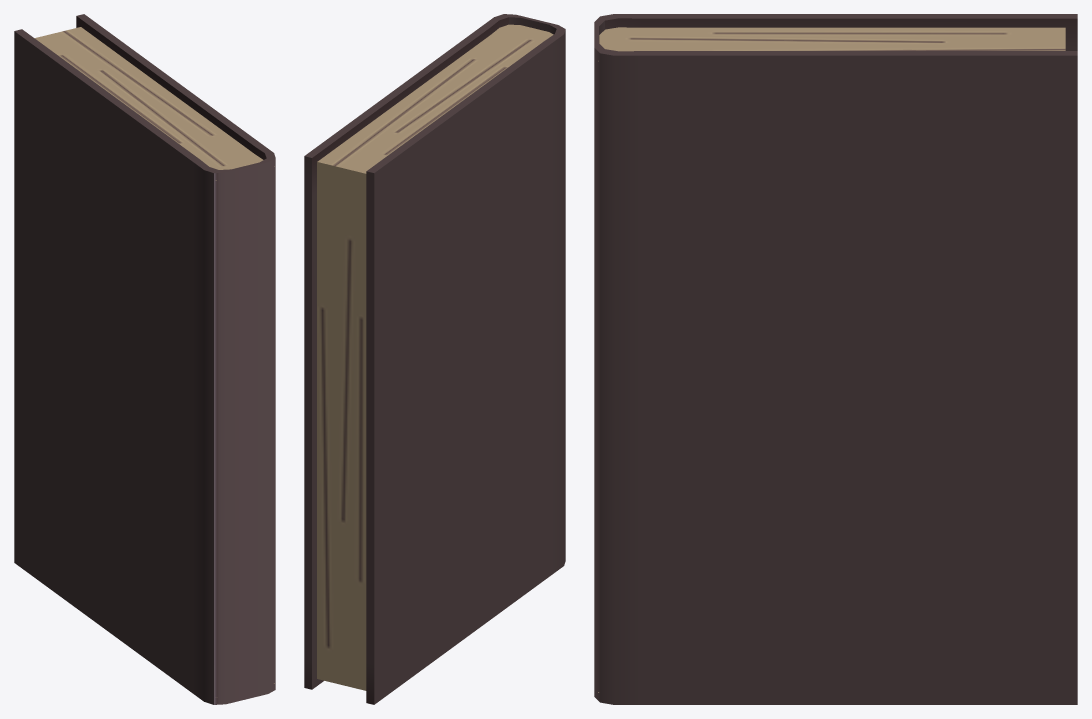
Rendered from Mesh_Room_Book_02_SM.fbx.
The picture shows the model from 3 angles, left to right: view 1: azimuth 30°, elevation 25°; view 2: azimuth 150°, elevation 25°; view 3: azimuth 270°, elevation 25°; orthographic projection. The views are drawn at different scales.
Visible parts, largest first — view 1: Mesh_Room_Book_02; view 2: Mesh_Room_Book_02; view 3: Mesh_Room_Book_02.
Boxes of the visible parts, <box> form: Mesh_Room_Book_02: <box>14,14,275,704</box>; Mesh_Room_Book_02: <box>304,14,565,704</box>; Mesh_Room_Book_02: <box>594,14,1077,704</box>.
Size of the model in its own units: 4.06 by 29.5 by 19.9.
